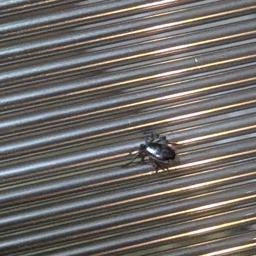Ixodes scapularis: (121, 133, 183, 171)
